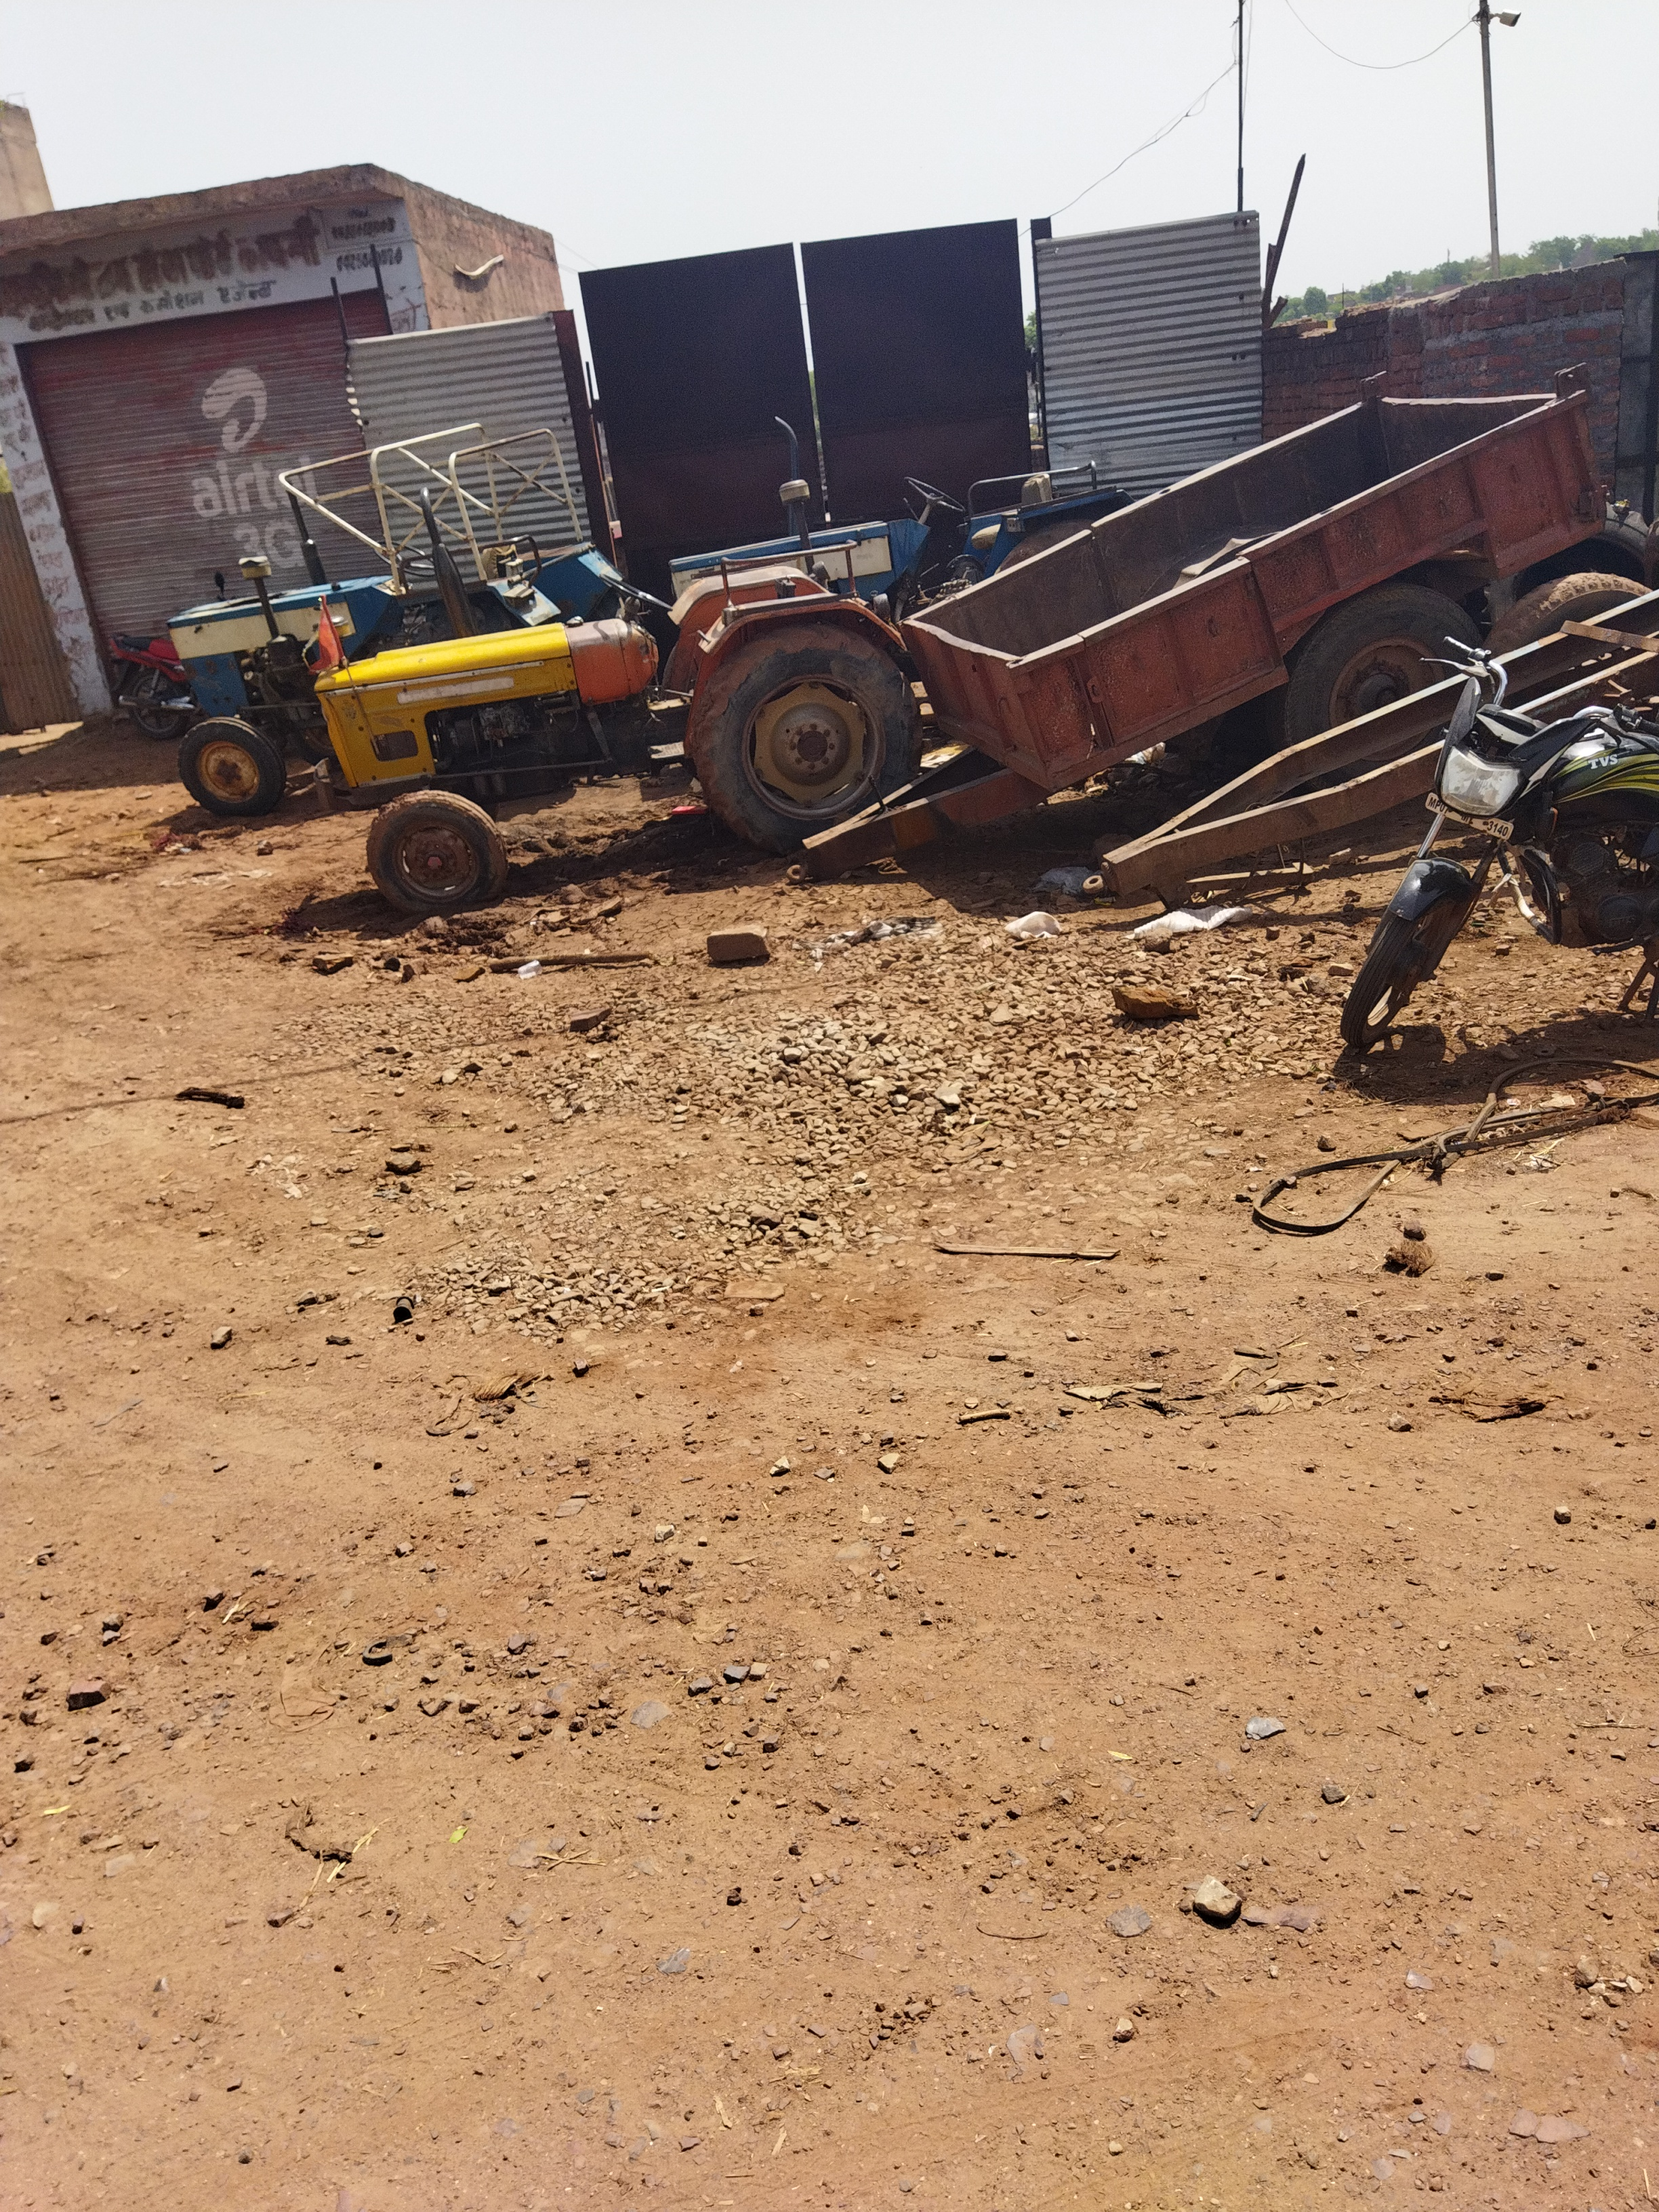tractor: (303, 470, 927, 913), (169, 420, 629, 819), (664, 413, 1136, 641)
